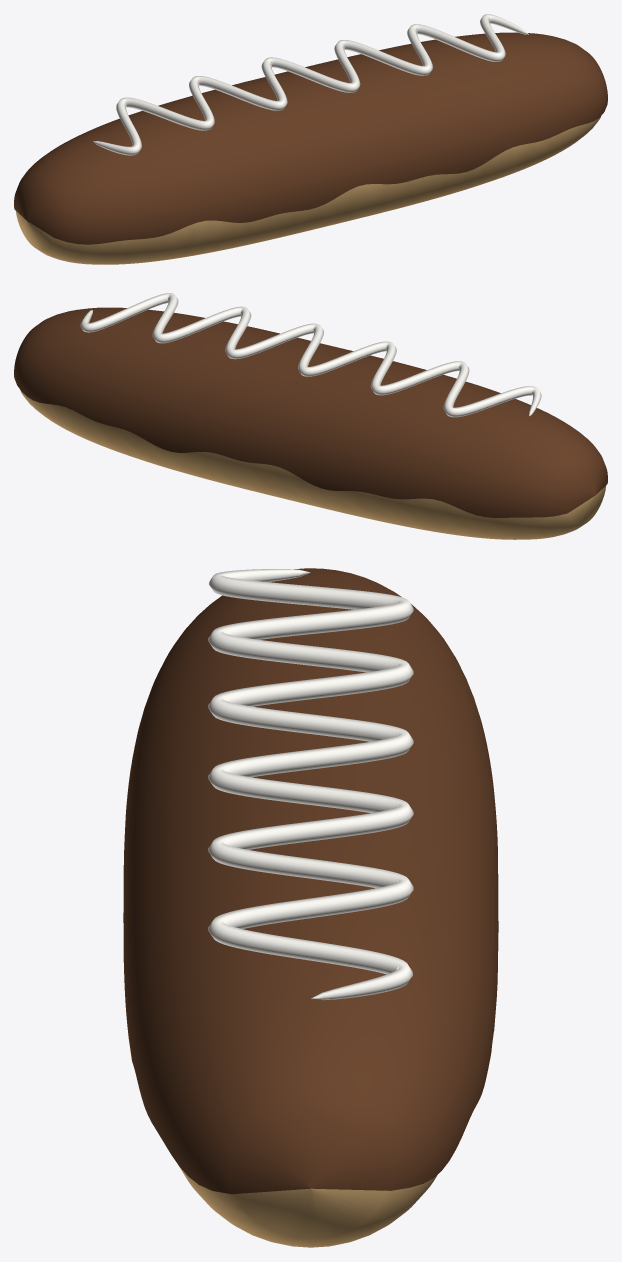
The model's file is eclair.glb.
3 views of the same model, one above another, from view 1: azimuth 30°, elevation 25°; view 2: azimuth 150°, elevation 25°; view 3: azimuth 270°, elevation 25° (orthographic). The views are drawn at different scales.
Visible parts, largest first — view 1: Glaze, Choux, Drizzle; view 2: Glaze, Choux, Drizzle; view 3: Glaze, Drizzle, Choux.
Part boxes in pixels (bbox=[...]): Glaze: bbox=[14, 32, 607, 244]; Choux: bbox=[16, 116, 600, 264]; Drizzle: bbox=[93, 14, 528, 155]; Glaze: bbox=[14, 307, 607, 517]; Choux: bbox=[20, 389, 606, 539]; Drizzle: bbox=[80, 293, 541, 417]; Glaze: bbox=[123, 568, 498, 1194]; Drizzle: bbox=[208, 569, 413, 1000]; Choux: bbox=[179, 1166, 437, 1247].
Size of the model in its own units: 0.12 by 0.0295 by 0.0342.
